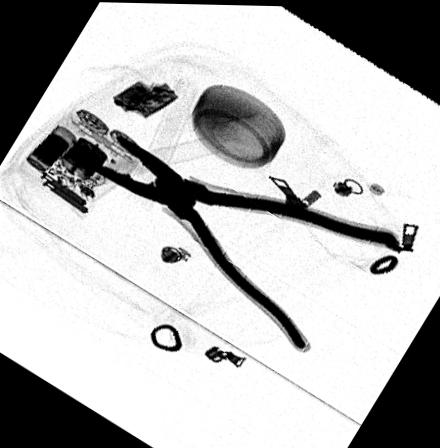Pliers: (89, 130, 397, 346)
